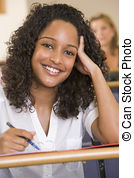face: (29, 14, 84, 92)
